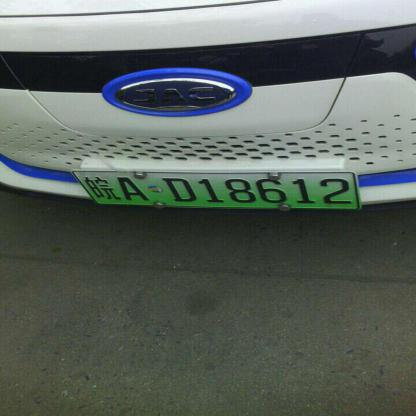lp: (73, 170, 359, 208)
